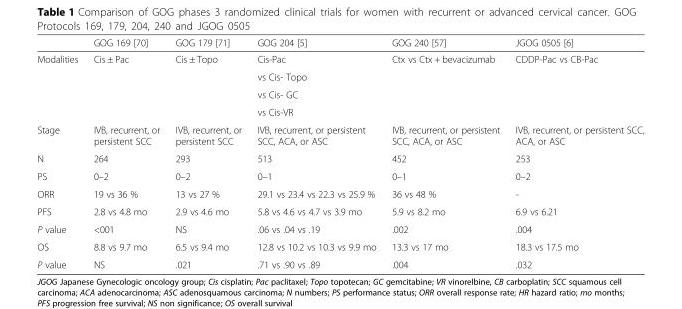table: (36, 36, 643, 269)
table column: (507, 36, 643, 269), (248, 36, 383, 269), (383, 36, 507, 269), (166, 36, 248, 269), (85, 36, 166, 269), (36, 36, 85, 269)
table column header: (36, 36, 643, 50)
table row: (36, 120, 643, 149), (36, 67, 643, 85), (36, 102, 643, 120), (36, 149, 643, 167), (36, 184, 643, 202), (36, 202, 643, 220), (36, 237, 643, 255), (36, 50, 643, 67), (36, 85, 643, 102), (36, 167, 643, 184), (36, 220, 643, 237), (36, 36, 643, 50), (36, 255, 643, 269)
table spanning cell: (36, 50, 85, 120)
